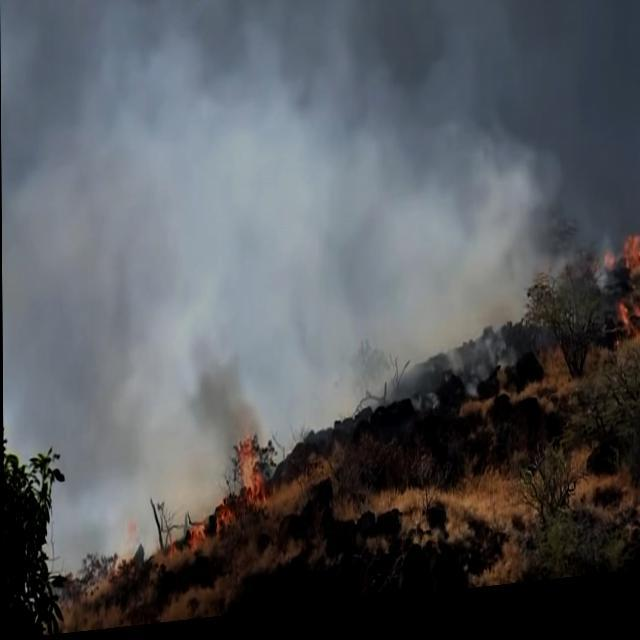Fire: (233, 440, 265, 517), (618, 314, 638, 356), (621, 245, 639, 289), (185, 524, 208, 552), (214, 508, 232, 536)
